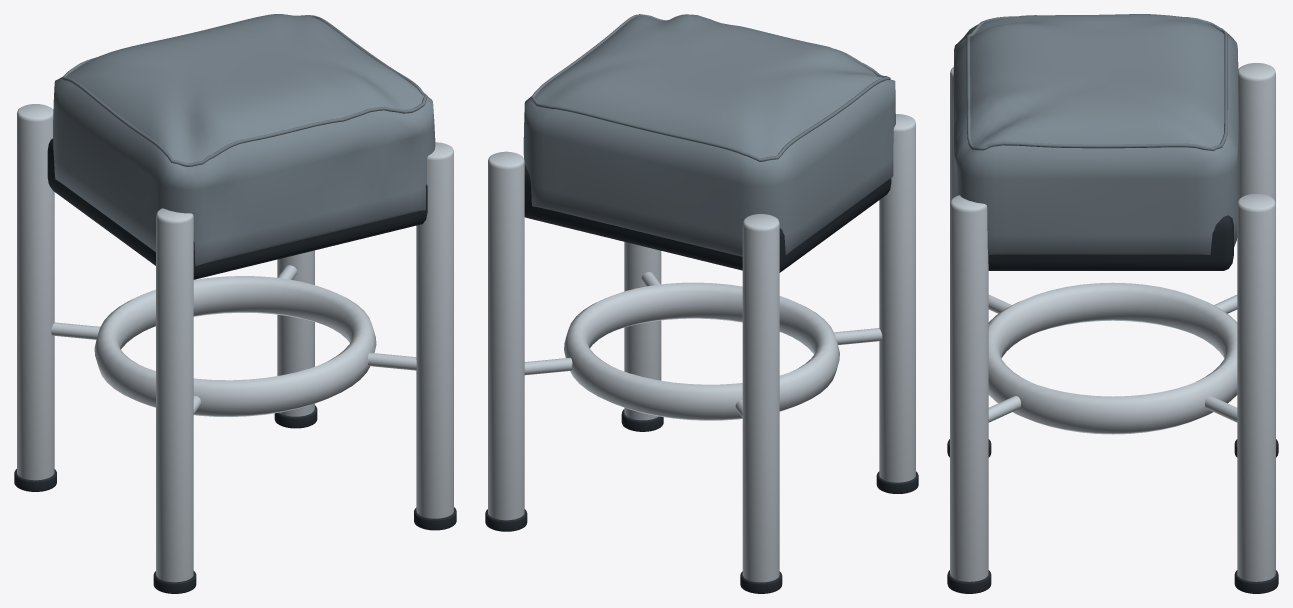
Rendered from counter-saddle-stool.glb.
3 renders of one model, left to right at view 1: azimuth 30°, elevation 25°; view 2: azimuth 150°, elevation 25°; view 3: azimuth 270°, elevation 25°, orthographic. The views are drawn at different scales.
Visible parts, largest first — view 1: catalog_surface_RealismUV, catalog_surface_UVMap; view 2: catalog_surface_RealismUV, catalog_surface_UVMap; view 3: catalog_surface_RealismUV, catalog_surface_UVMap.
Boxes of the visible parts, x1,y1,x2,y2 form: catalog_surface_RealismUV: (17,14,453,582); catalog_surface_UVMap: (14,138,456,593); catalog_surface_RealismUV: (488,14,915,582); catalog_surface_UVMap: (485,165,918,593); catalog_surface_RealismUV: (950,14,1275,581); catalog_surface_UVMap: (947,215,1278,593).
Bounding box in the file's own units: 0.46 × 0.66 × 0.43.
